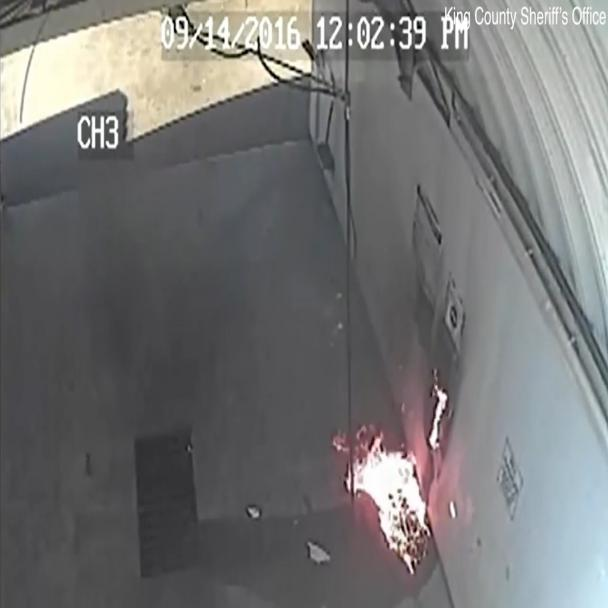Fire: (321, 351, 491, 607)
